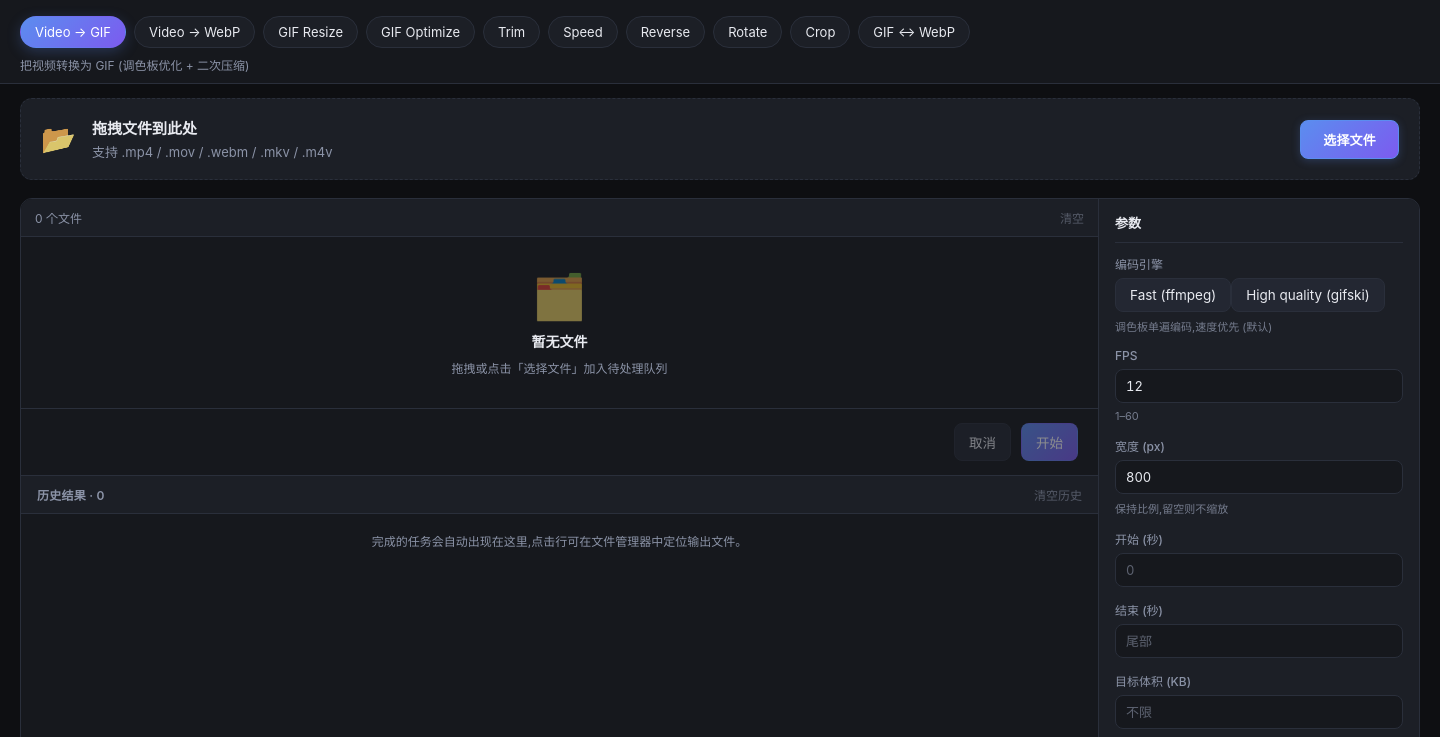
Test: ToolboxPanel › falls back to DOM file input when preload bridge lacks toolboxPickFiles
Note: Spy on the hidden input click — it's the fallback trigger.
Click the button "选择文件": coordinates (1350, 139) [1300,120,1399,158]
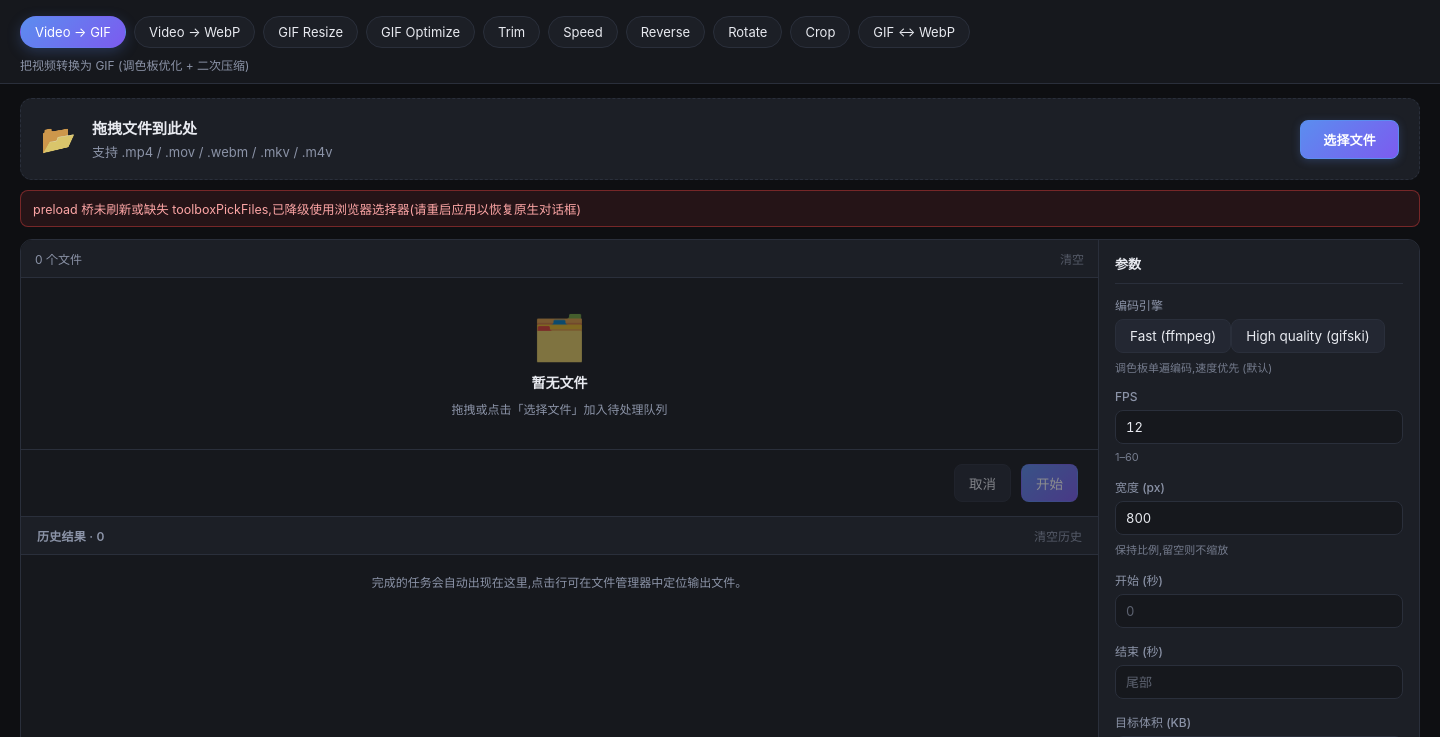
Result: the message shows "preload" at [33,202,581,217]
